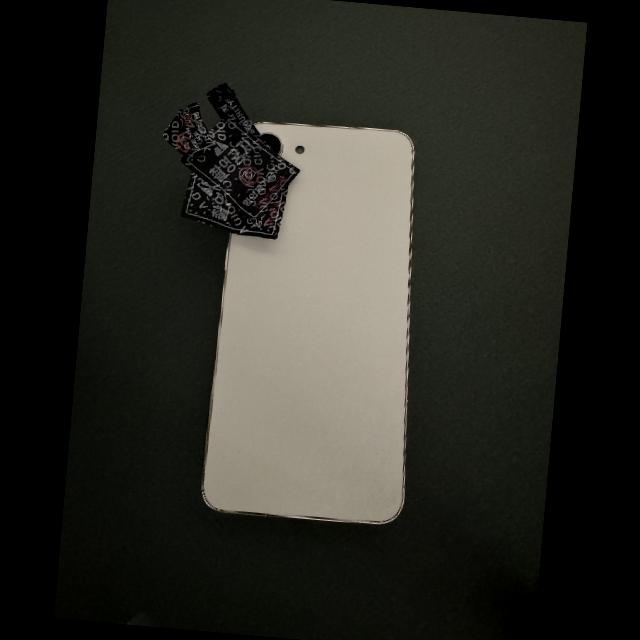lens: (261, 133, 283, 153)
phone: (201, 121, 414, 525)
sticker: (180, 115, 299, 224), (180, 171, 288, 239), (206, 82, 261, 139), (177, 103, 219, 157), (162, 115, 191, 154)
